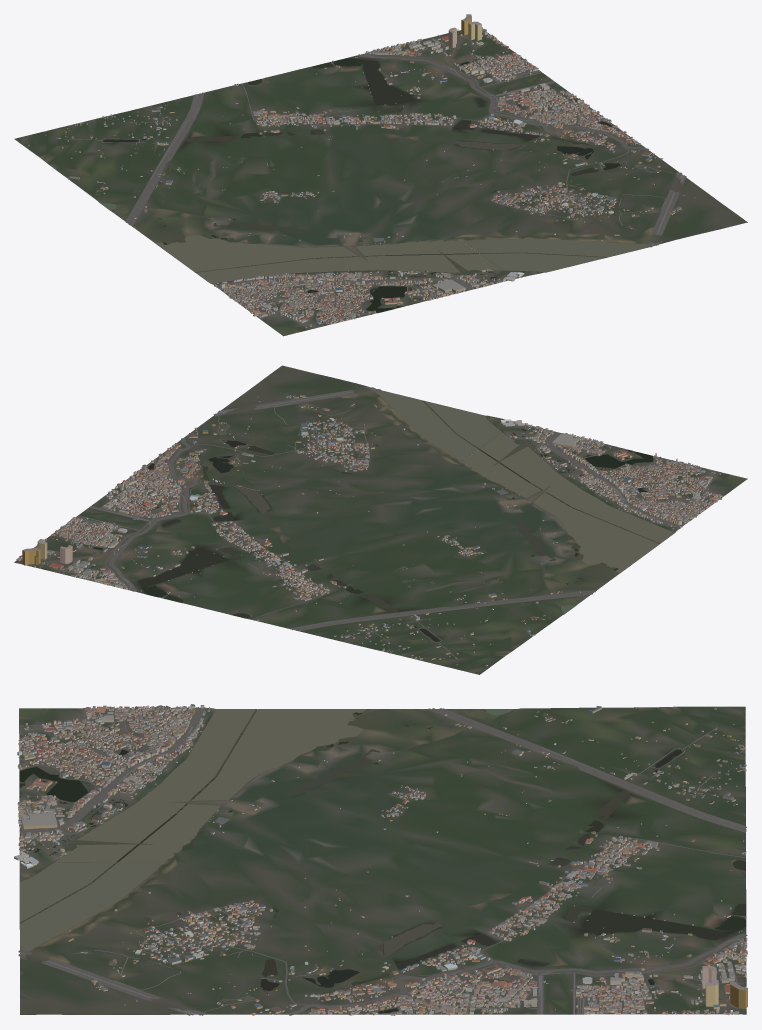
The picture shows the model from 3 angles, top to bottom: view 1: azimuth 30°, elevation 25°; view 2: azimuth 150°, elevation 25°; view 3: azimuth 270°, elevation 25°; orthographic projection. The views are drawn at different scales.
Visible parts, largest first — view 1: ground, buildings, water, roads; view 2: ground, buildings, water, roads; view 3: ground, buildings, water, roads.
Part boxes in pixels (x1=…): ground: x1=14, y1=30, x2=747, y2=336; buildings: x1=28, y1=14, x2=695, y2=328; water: x1=99, y1=58, x2=655, y2=312; roads: x1=56, y1=32, x2=686, y2=329; ground: x1=14, y1=365, x2=747, y2=674; buildings: x1=16, y1=395, x2=722, y2=666; water: x1=93, y1=390, x2=674, y2=641; roads: x1=30, y1=387, x2=723, y2=659; ground: x1=19, y1=706, x2=746, y2=1014; buildings: x1=14, y1=704, x2=747, y2=1015; water: x1=19, y1=709, x2=745, y2=1013; roads: x1=17, y1=707, x2=747, y2=1015.
Bounding box in the file's own units: 2821 × 97.17 × 2833.
